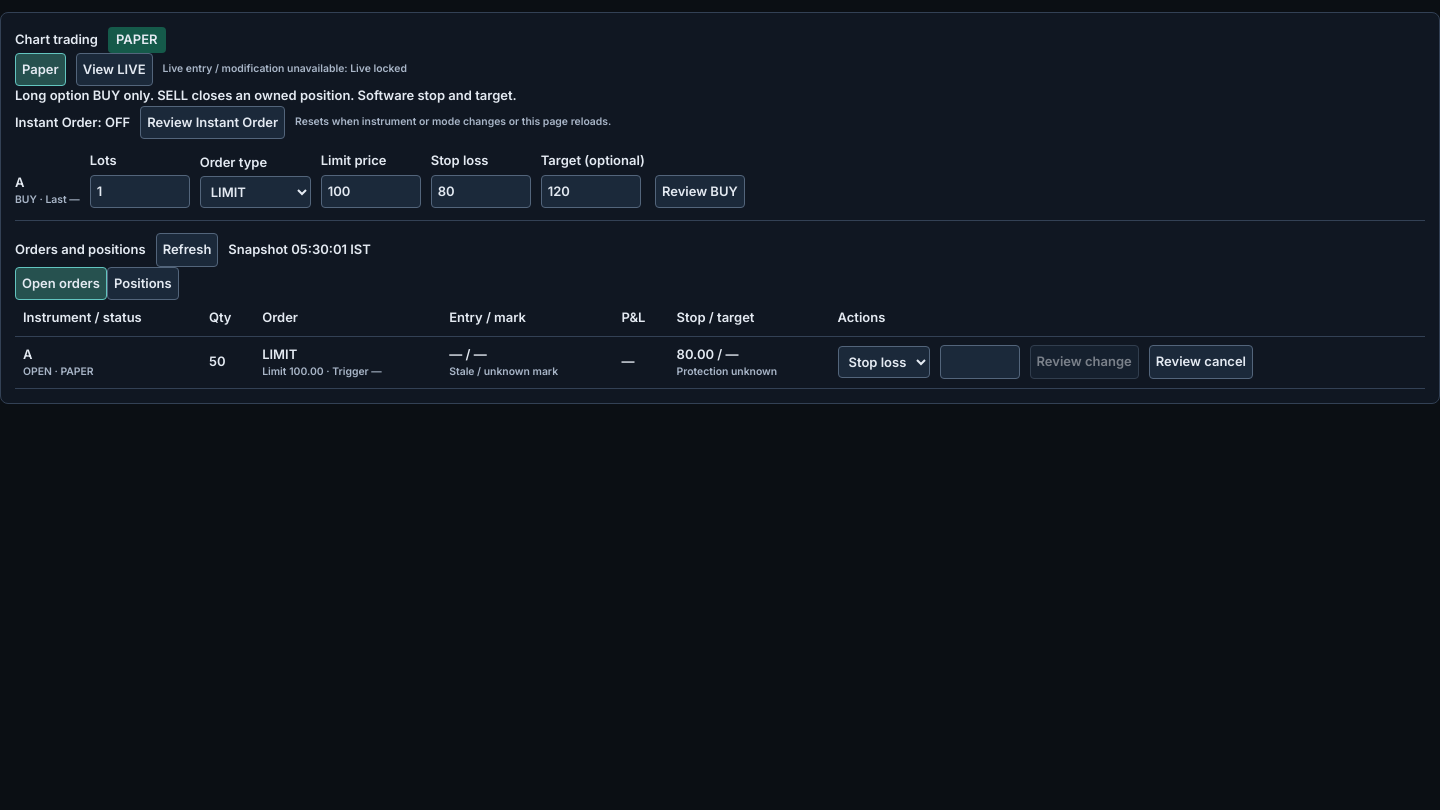
Test case: instant is off by default; paper activation reviews preview, then submits without a second confirmation
Later steps or results of the test are not shown.
Step 1. Click the button "Review Instant Order" → (213, 122), box [140,106,285,139]
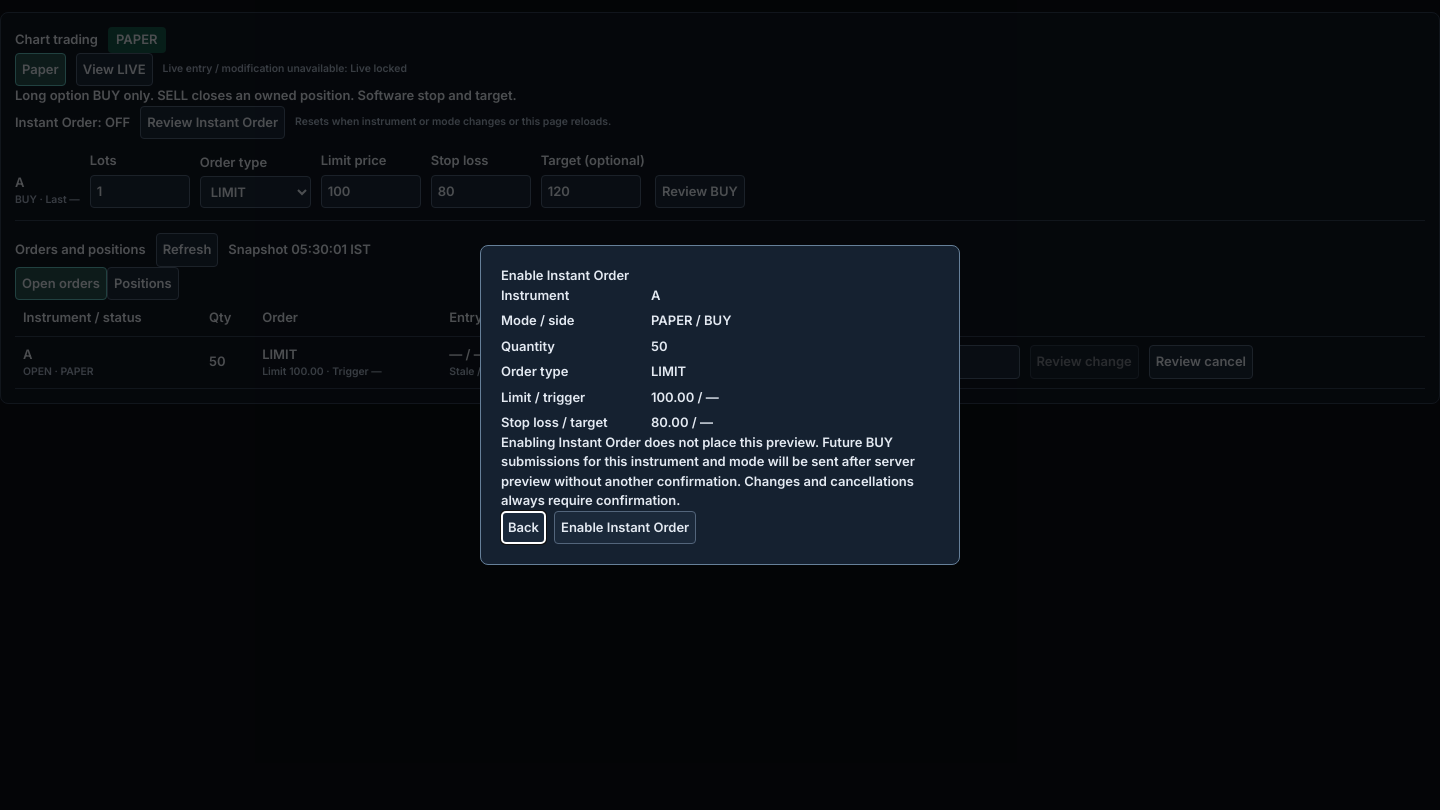
Result: the dialog shows "50" at [651,338,668,354]
